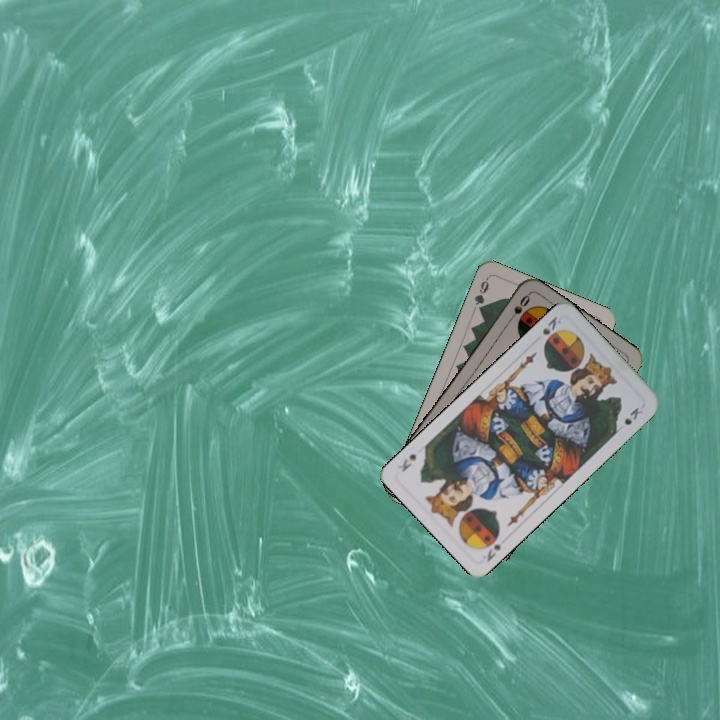G9: (470, 274, 491, 315)
SK: (478, 529, 504, 565), (538, 312, 564, 337)
SO: (503, 291, 533, 326)
